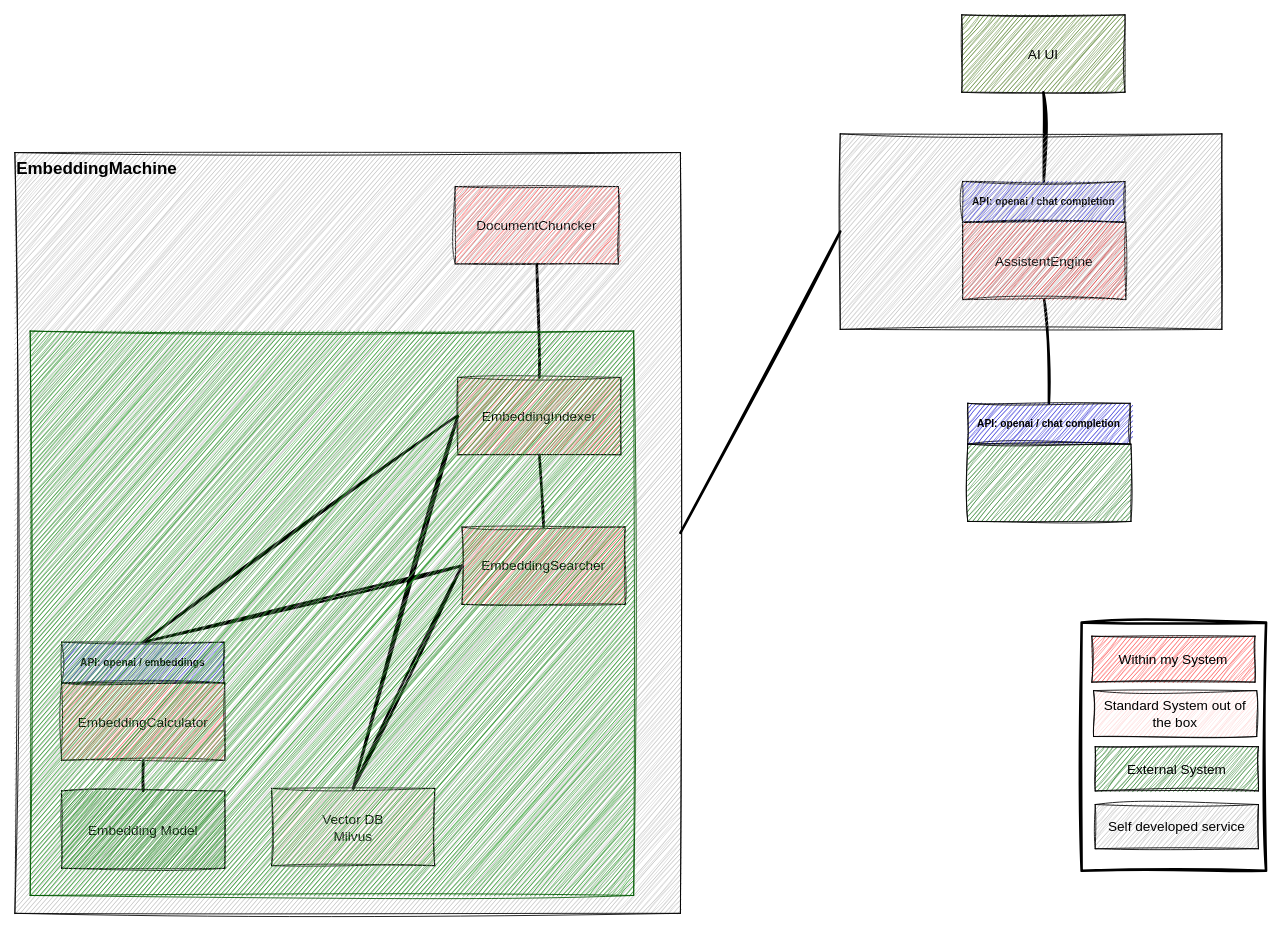
The diagram is 1282 pixels wide and 928 high, and some of its shapes have lost their labels. Here are the shapes that lost their labels. From the top down, the centre of each, then its label:
At [1030,231]: "RagMachine".
At [1049,482]: "LLM".
At [331,612]: "ChromaDB".
